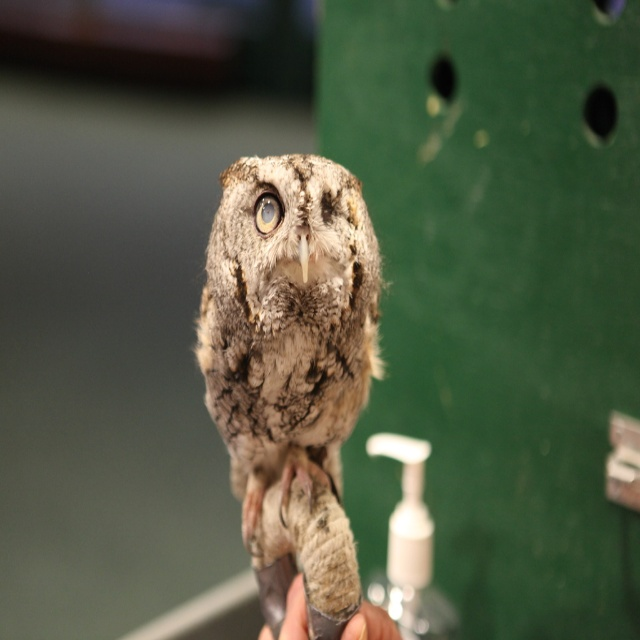Owl: (191, 149, 384, 563)
